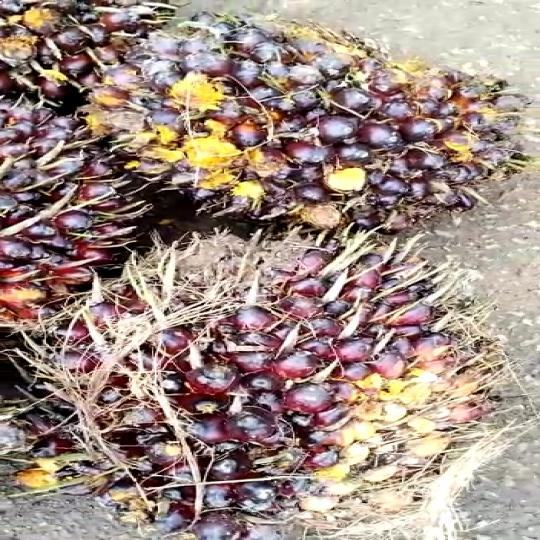kurang masak: (50, 241, 508, 536), (99, 19, 540, 226)
